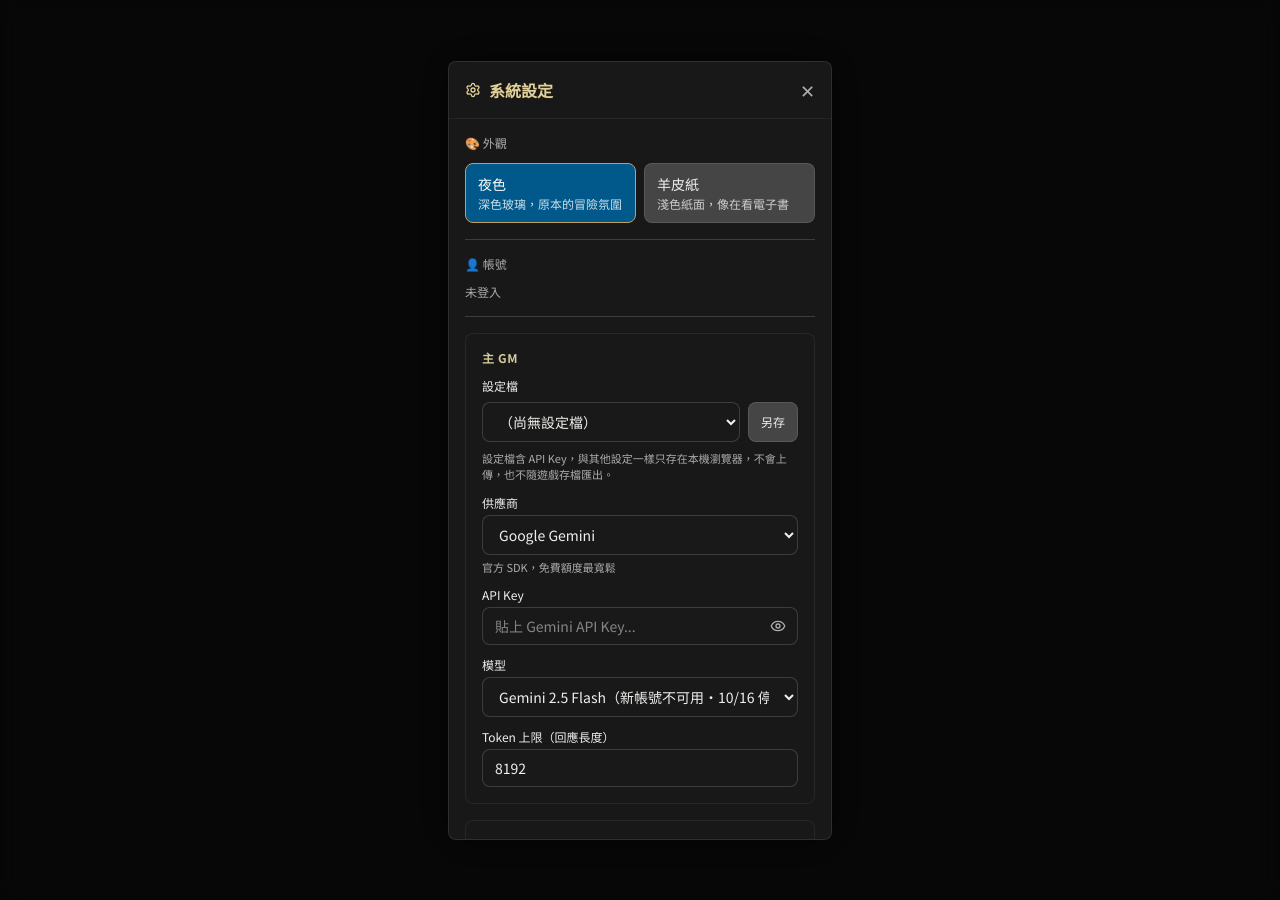
Test: SettingsModal 模型選擇 — 自訂型號 › 選了自訂型號就出現輸入框
Select "自訂型號⋯" in the dropdown named "模型" at point(640, 697), box [482,677,798,717]
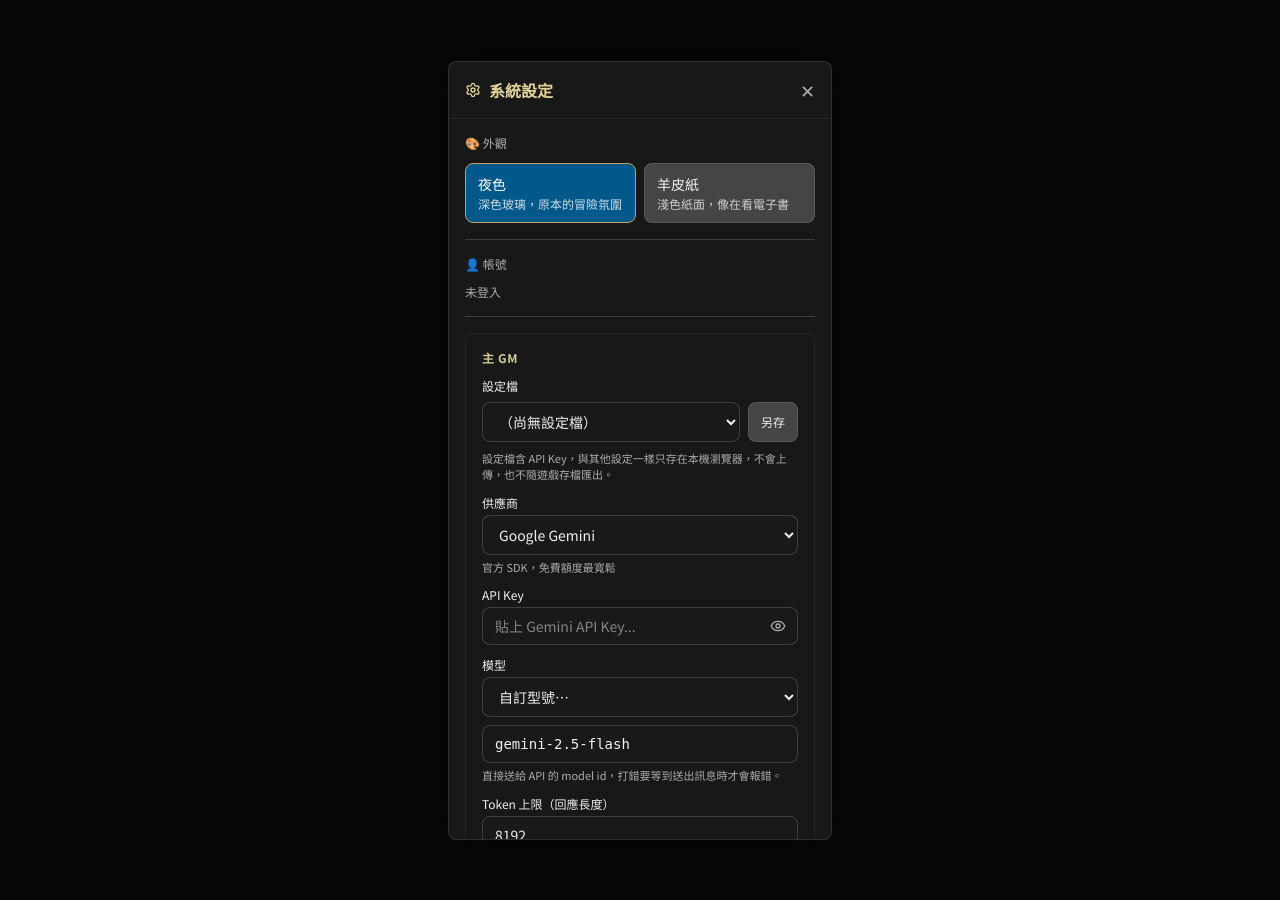
Now the field named "自訂型號" is shown, box [482,725,798,763]
